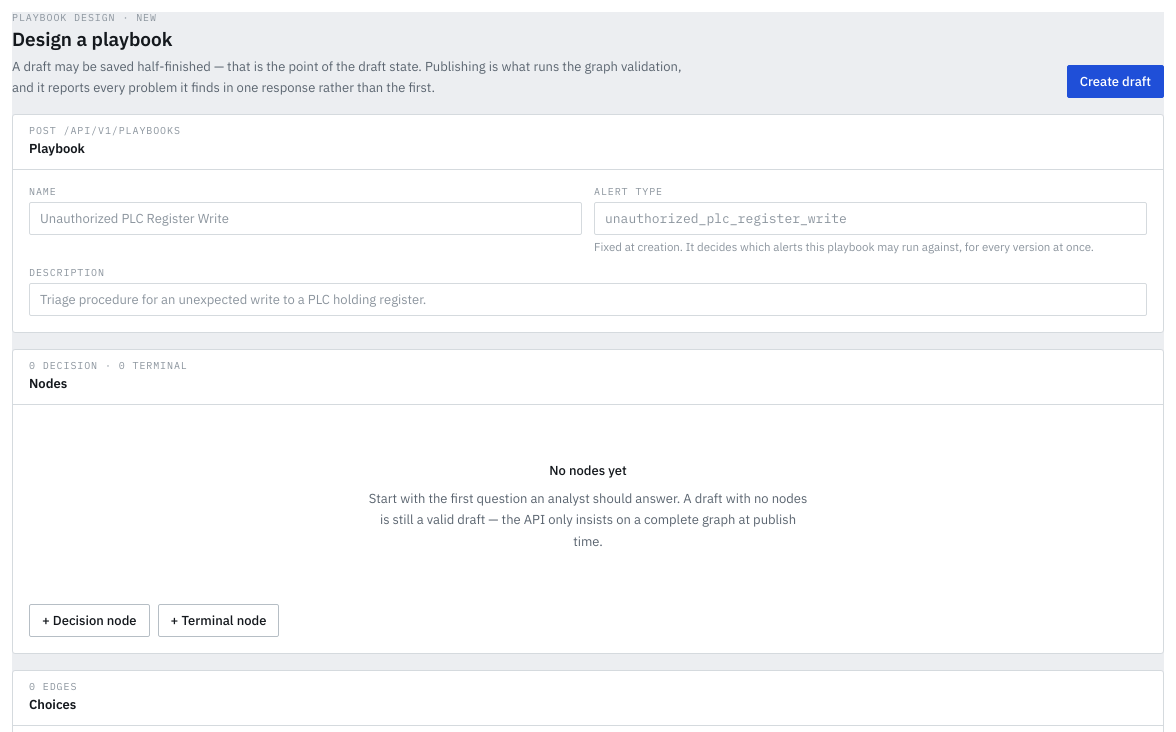
Test: PlaybookEditorScreen stale validation errors › drops the name error as soon as the name is typed into
Type "suspicious_outbound_ot_connection" into the field labelled "Alert type" at (870, 218), box x1=594 y1=202 x2=1147 y2=235
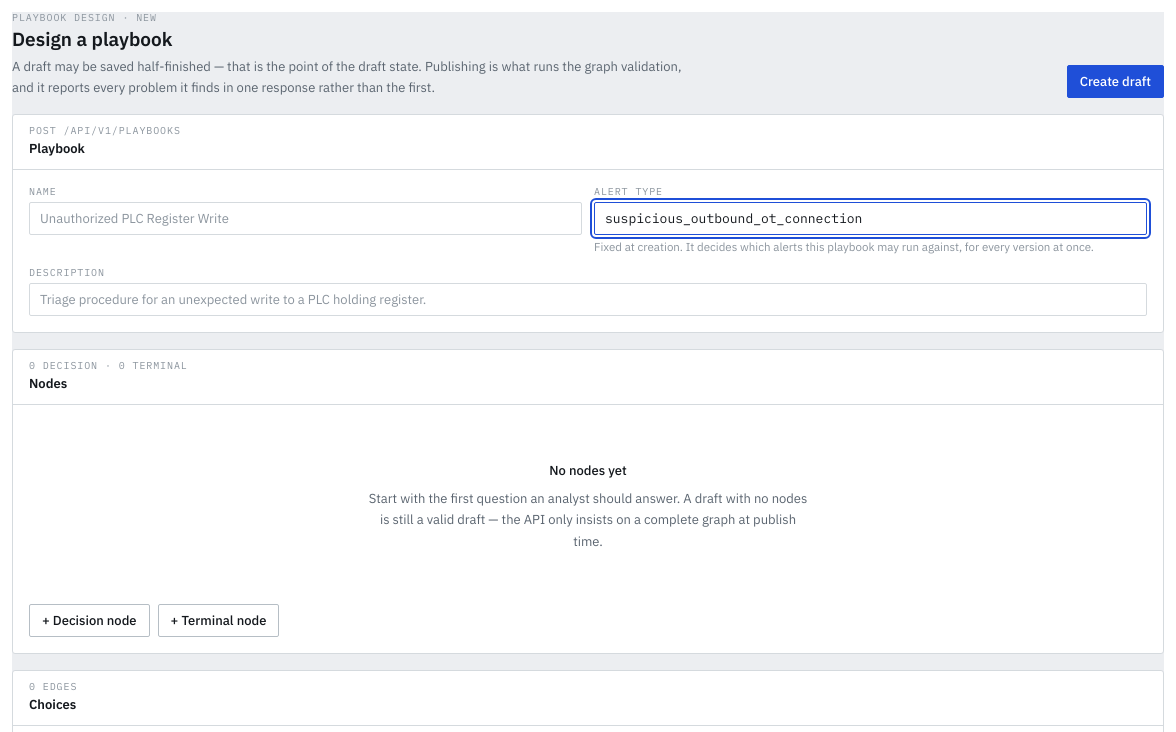
Click the button "Create draft" at (1115, 81), box x1=1067 y1=64 x2=1164 y2=98
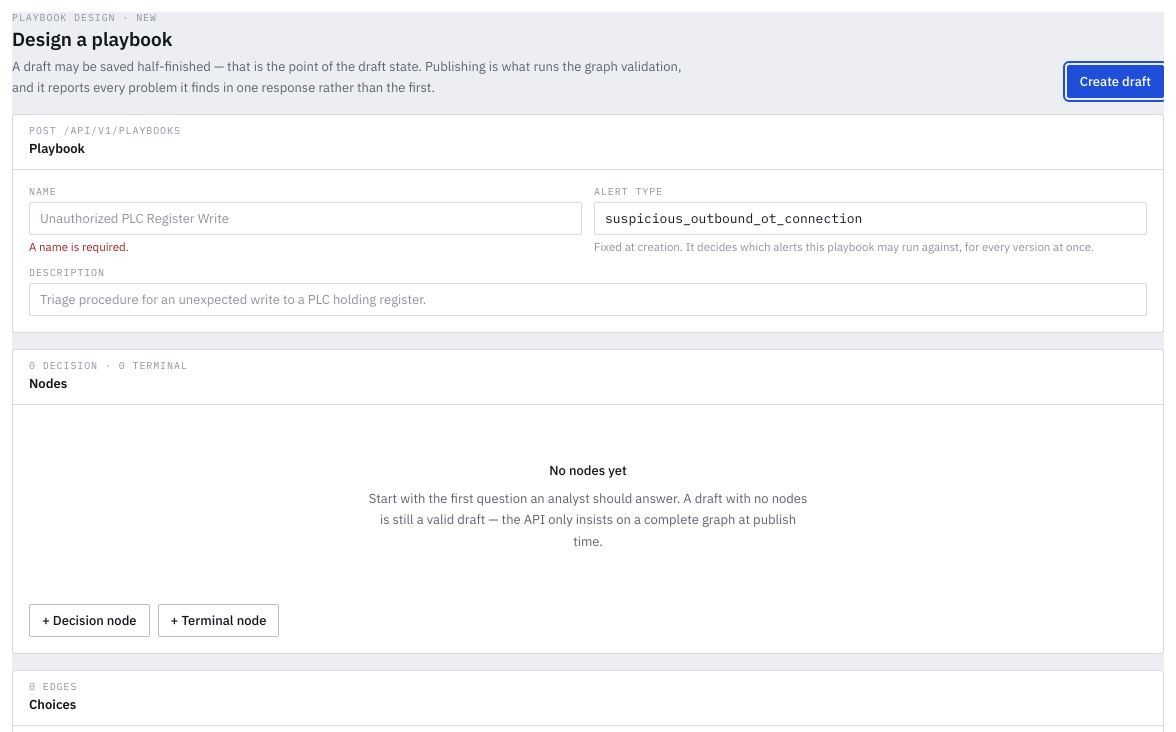
Check: the text "A name is required." is shown, box x1=29 y1=239 x2=129 y2=254
Type "S" into the field labelled "Name" at (306, 218), box x1=29 y1=202 x2=582 y2=235
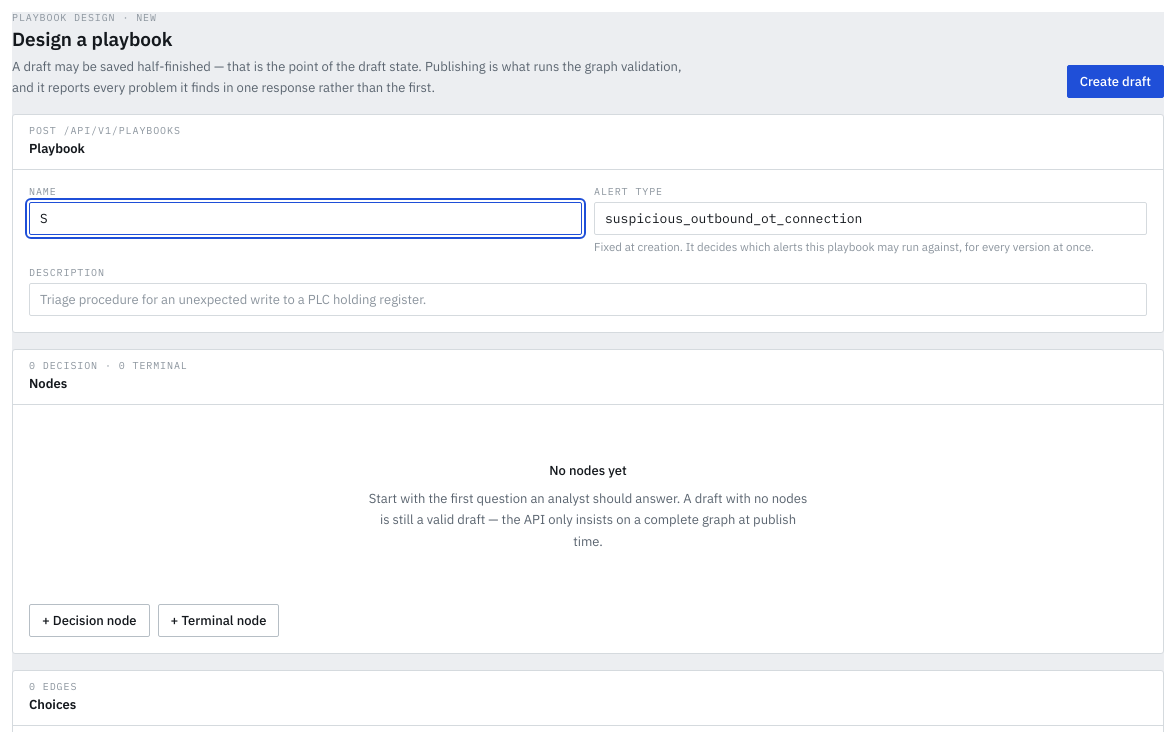
Check: the text "A name is required." is gone
